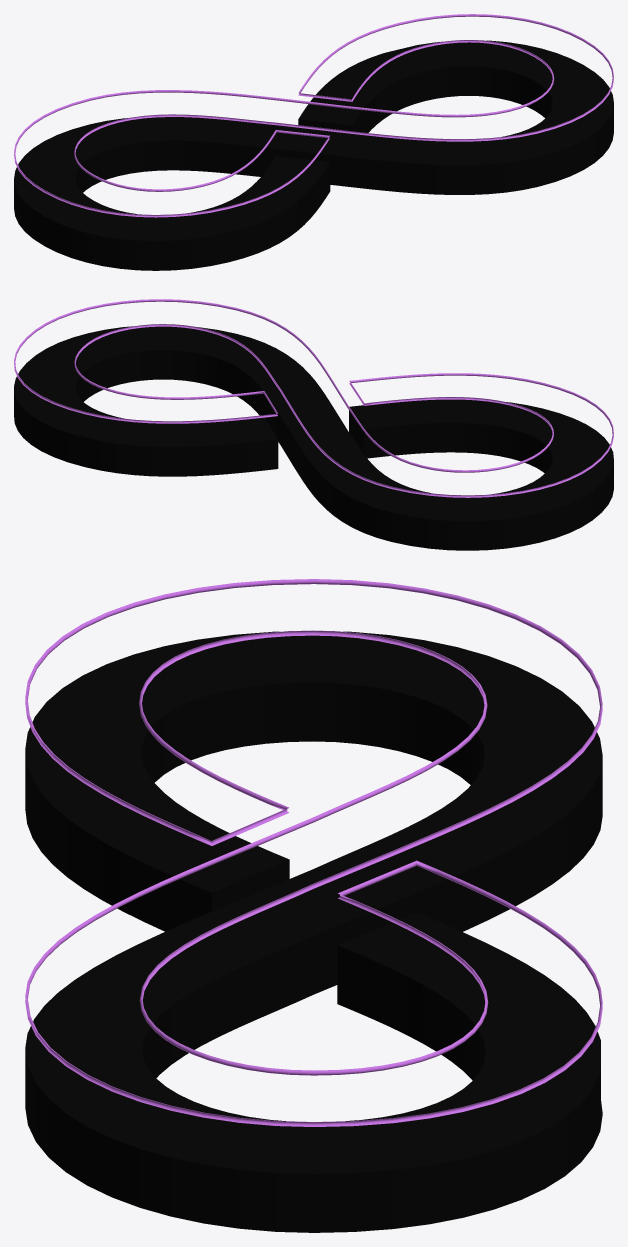
The model's file is Wrench04.gltf.
3 views of the same model, one above another, from view 1: azimuth 30°, elevation 25°; view 2: azimuth 150°, elevation 25°; view 3: azimuth 270°, elevation 25° (orthographic). The views are drawn at different scales.
Parts seen in each view (by area): view 1: Curve, Curve.001; view 2: Curve, Curve.001; view 3: Curve, Curve.001.
Part boxes in pixels (x1,y1,x2,y2): Curve: [14, 40, 613, 270]; Curve.001: [14, 14, 613, 217]; Curve: [14, 326, 613, 550]; Curve.001: [14, 299, 613, 497]; Curve: [25, 631, 602, 1232]; Curve.001: [25, 579, 602, 1126].
Size of the model in its own units: 8.87 by 0.8424 by 3.98.
